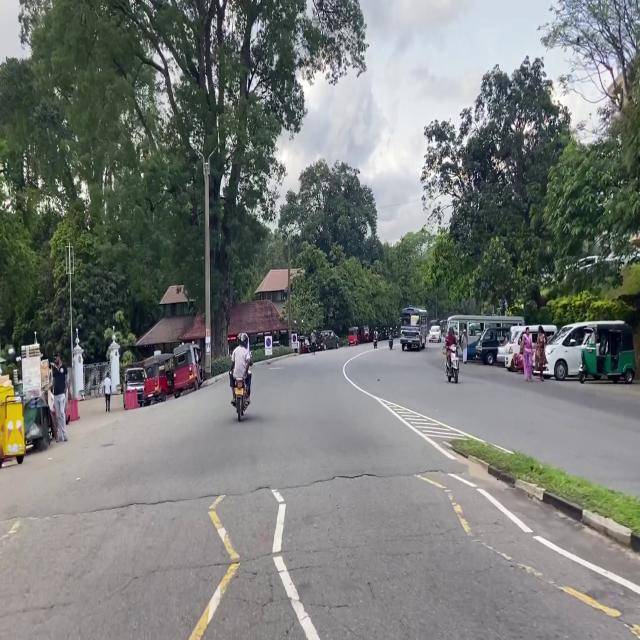bus: (448, 315, 523, 359), (400, 306, 427, 350)
car: (544, 322, 622, 380), (124, 367, 146, 405), (317, 330, 339, 350), (429, 326, 441, 343)
motorcycle: (234, 379, 249, 421), (445, 344, 459, 383), (389, 334, 393, 350), (373, 338, 377, 349)
person: (230, 333, 252, 404), (52, 352, 67, 441), (535, 325, 549, 381), (522, 327, 533, 381), (445, 325, 456, 360), (103, 372, 111, 412), (460, 329, 468, 364), (310, 331, 316, 354), (389, 327, 393, 338), (373, 328, 377, 339)
three wheeler: (579, 321, 635, 383), (173, 344, 203, 398), (144, 353, 174, 405), (348, 328, 359, 345), (360, 325, 370, 343), (299, 336, 309, 353)
van: (498, 324, 557, 371), (476, 327, 509, 365)
